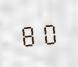eight: (19, 21, 38, 47)
zero: (39, 20, 58, 45)
